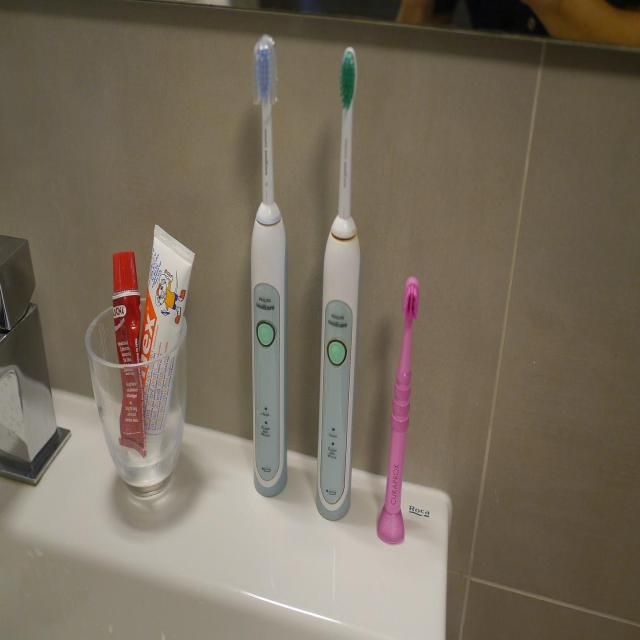Toothpaste: (94, 214, 199, 454)
